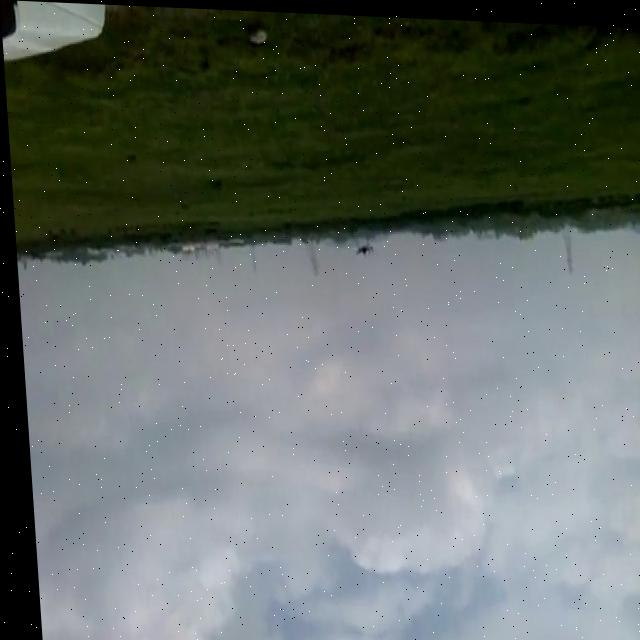drone: (348, 237, 372, 259)
